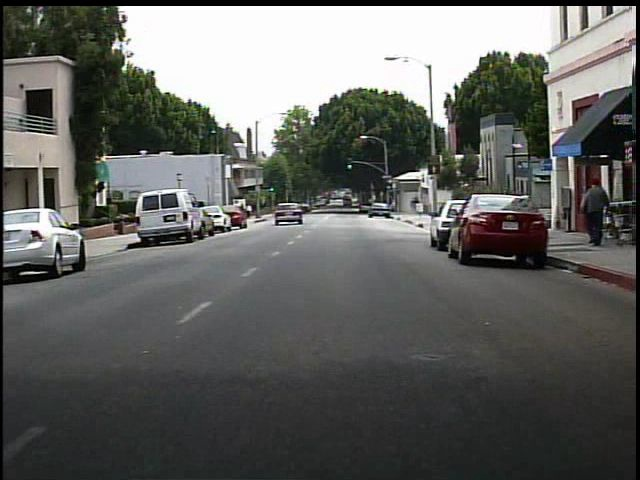person: (578, 179, 612, 248)
